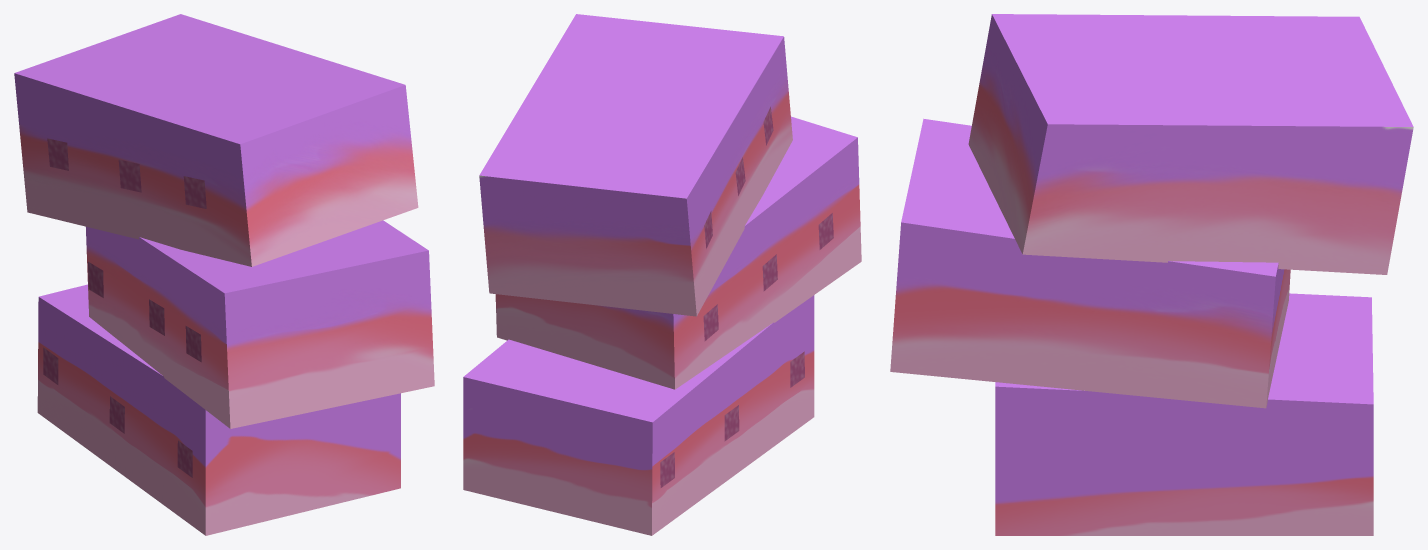
The model's file is marshmallow apartments.fbx.
3 renders of one model, left to right at view 1: azimuth 30°, elevation 25°; view 2: azimuth 150°, elevation 25°; view 3: azimuth 270°, elevation 25°, orthographic. The views are drawn at different scales.
Visible parts, largest first — view 1: pCube6; view 2: pCube6; view 3: pCube6.
Part boxes in pixels (x1,y1,x2,y2): pCube6: (14, 14, 434, 535); pCube6: (463, 14, 861, 535); pCube6: (890, 14, 1413, 535).
Bounding box in the file's own units: 5.9 × 8.52 × 9.34.
Materials: 1 (1 with a texture image).
